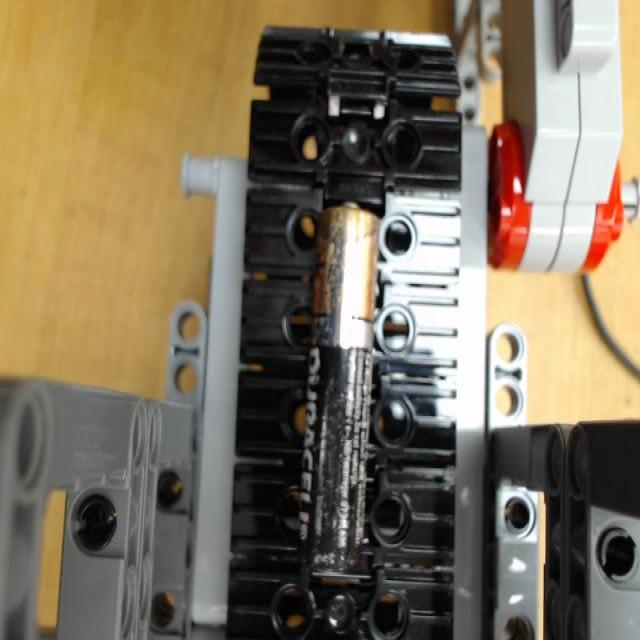AAA: (300, 203, 382, 574)
